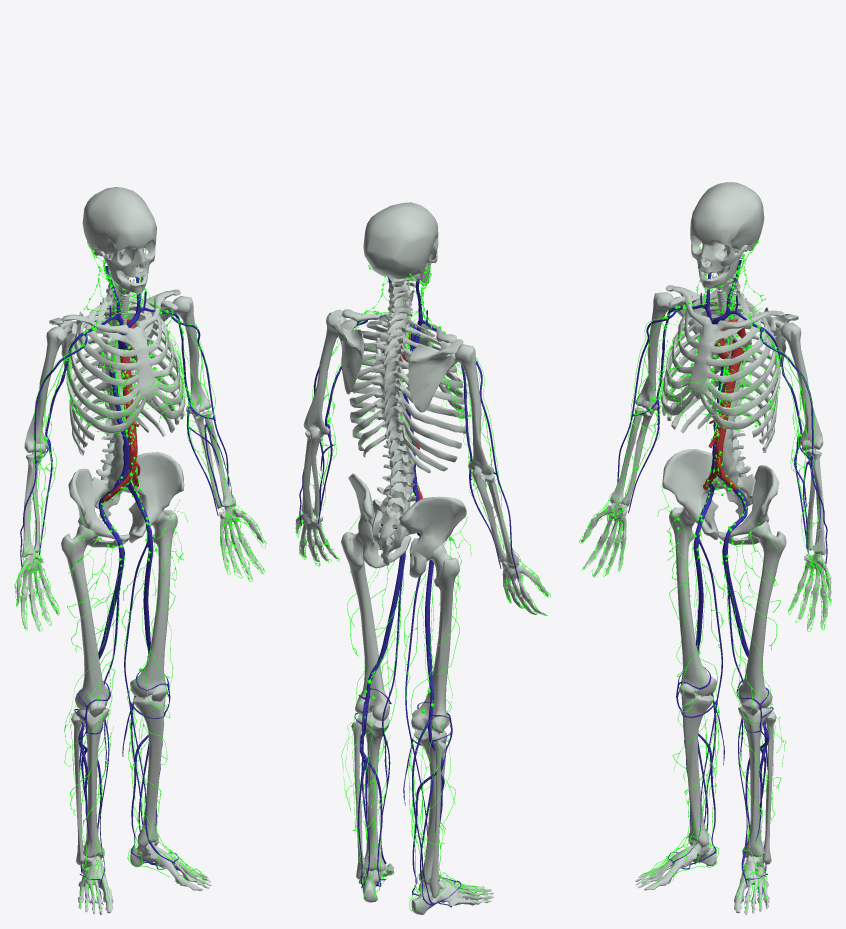
File: umcg-source.glb
The picture shows the model from 3 angles, left to right: view 1: azimuth 30°, elevation 25°; view 2: azimuth 150°, elevation 25°; view 3: azimuth 330°, elevation 25°; orthographic projection.
Parts seen in each view (by area): view 1: SubTool_3_8350512_copy1_SubTool_3_8350512_copy1_0, Extract5_Extract5_0, SubTool_3_8350512_SubTool_3_8350512_0, SubTool_3_8350512_SubTool_3_8350512_0.001, SubTool_3_8350512_SubTool_3_8350512_0.002, Extract4_Extract4_0; view 2: SubTool_3_8350512_copy1_SubTool_3_8350512_copy1_0, Extract5_Extract5_0, SubTool_3_8350512_SubTool_3_8350512_0, SubTool_3_8350512_SubTool_3_8350512_0.001, SubTool_3_8350512_SubTool_3_8350512_0.002; view 3: SubTool_3_8350512_copy1_SubTool_3_8350512_copy1_0, Extract5_Extract5_0, SubTool_3_8350512_SubTool_3_8350512_0, SubTool_3_8350512_SubTool_3_8350512_0.001, SubTool_3_8350512_SubTool_3_8350512_0.002, Extract4_Extract4_0.
Part boxes in pixels (x1=…): SubTool_3_8350512_copy1_SubTool_3_8350512_copy1_0: x1=16, y1=187, x2=263, y2=914; Extract5_Extract5_0: x1=20, y1=266, x2=232, y2=904; SubTool_3_8350512_SubTool_3_8350512_0: x1=14, y1=245, x2=266, y2=904; SubTool_3_8350512_SubTool_3_8350512_0.001: x1=14, y1=241, x2=264, y2=908; SubTool_3_8350512_SubTool_3_8350512_0.002: x1=15, y1=249, x2=265, y2=907; Extract4_Extract4_0: x1=102, y1=319, x2=140, y2=501; SubTool_3_8350512_copy1_SubTool_3_8350512_copy1_0: x1=295, y1=202, x2=548, y2=914; Extract5_Extract5_0: x1=299, y1=277, x2=518, y2=907; SubTool_3_8350512_SubTool_3_8350512_0: x1=295, y1=265, x2=546, y2=910; SubTool_3_8350512_SubTool_3_8350512_0.001: x1=295, y1=265, x2=550, y2=911; SubTool_3_8350512_SubTool_3_8350512_0.002: x1=295, y1=273, x2=549, y2=911; SubTool_3_8350512_copy1_SubTool_3_8350512_copy1_0: x1=581, y1=182, x2=831, y2=914; Extract5_Extract5_0: x1=617, y1=260, x2=827, y2=904; SubTool_3_8350512_SubTool_3_8350512_0: x1=579, y1=239, x2=831, y2=907; SubTool_3_8350512_SubTool_3_8350512_0.001: x1=579, y1=250, x2=831, y2=907; SubTool_3_8350512_SubTool_3_8350512_0.002: x1=580, y1=244, x2=831, y2=907; Extract4_Extract4_0: x1=703, y1=319, x2=745, y2=490.
Bounding box in the file's own units: 654 × 2160 × 258.
